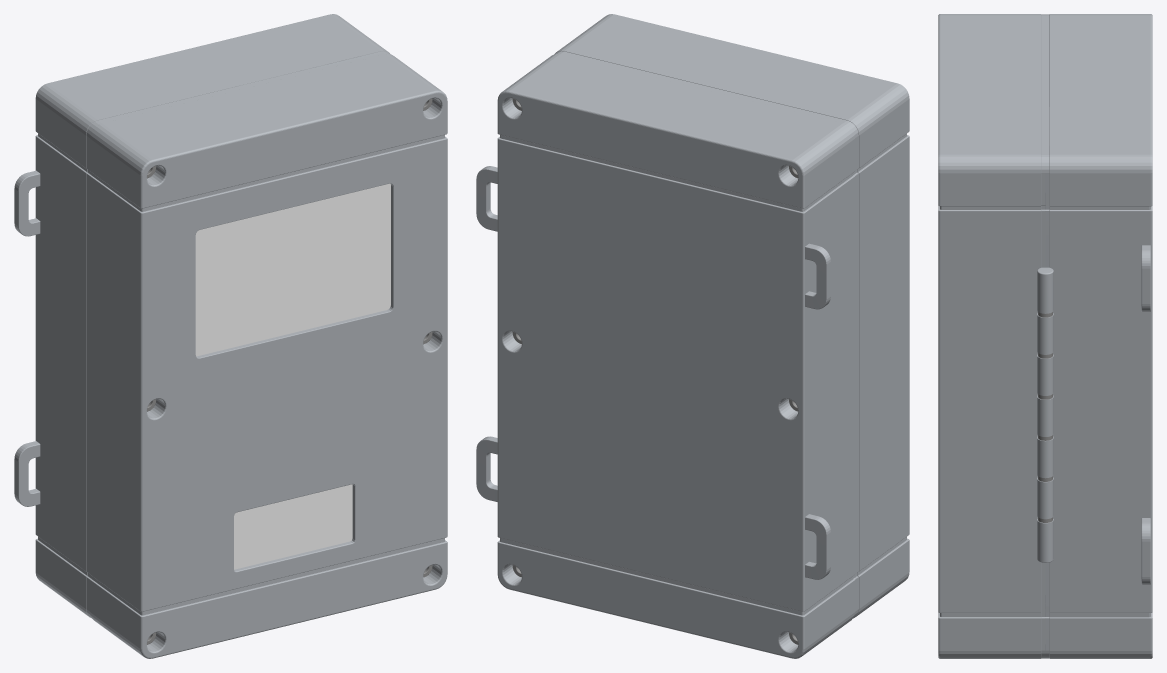
Rendered from enclosure.glb.
3 renders of one model, left to right at view 1: azimuth 30°, elevation 25°; view 2: azimuth 150°, elevation 25°; view 3: azimuth 270°, elevation 25°, orthographic.
Visible parts, largest first — view 1: BOX_A; view 2: BOX_A; view 3: BOX_A.
Part boxes in pixels (x1,y1,x2,y2): BOX_A: [14, 14, 447, 658]; BOX_A: [476, 14, 909, 658]; BOX_A: [938, 14, 1152, 658].
Bounding box in the file's own units: 2.56 × 3.48 × 1.34.
1 material, 1 textured.
